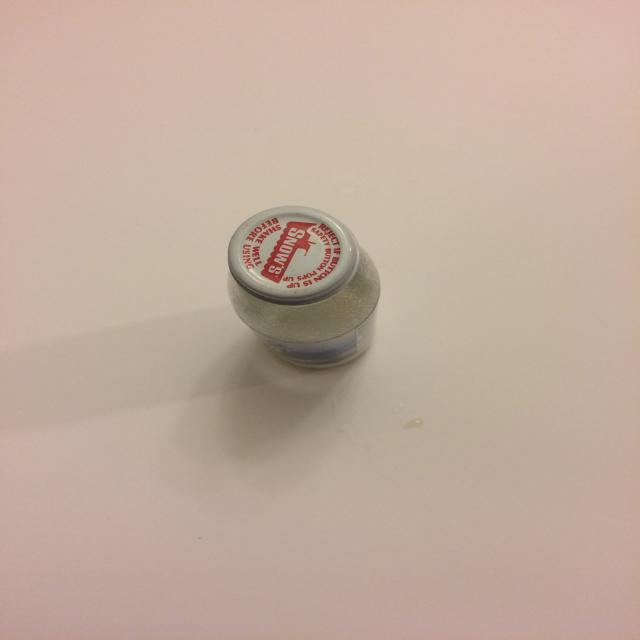glass: (225, 202, 384, 372)
